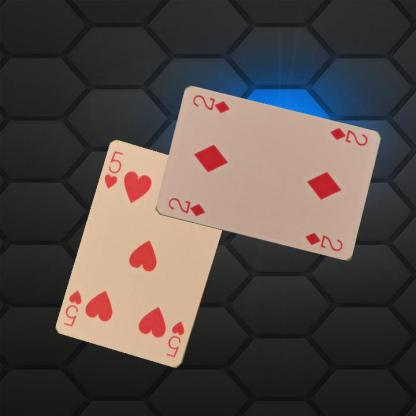2d: (327, 125, 369, 147), (166, 195, 206, 218)
5h: (101, 149, 124, 190), (164, 318, 186, 360)
